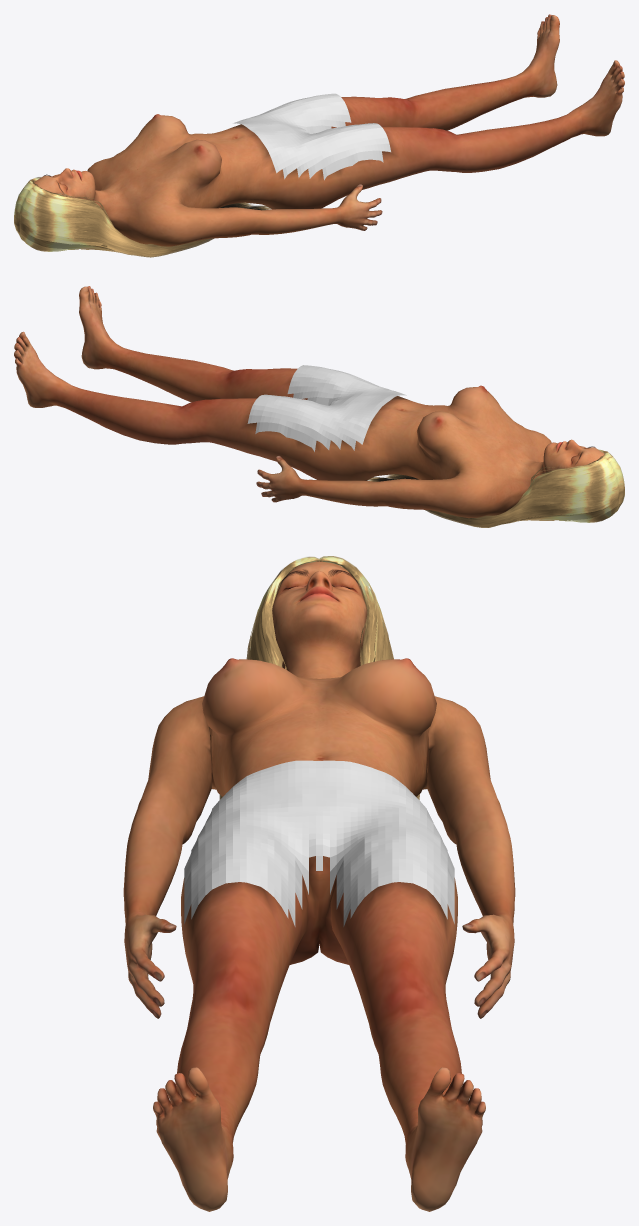
Rendered from kundin_lie_h8.glb.
The picture shows the model from 3 angles, top to bottom: view 1: azimuth 30°, elevation 25°; view 2: azimuth 150°, elevation 25°; view 3: azimuth 270°, elevation 25°; orthographic projection. The views are drawn at different scales.
Parts seen in each view (by area): view 1: body, towel, hair; view 2: body, towel, hair; view 3: body, towel, hair.
Boxes of the visible parts, bbox=[...] form: body: bbox=[34, 14, 624, 246]; towel: bbox=[233, 93, 390, 180]; hair: bbox=[14, 177, 271, 257]; body: bbox=[14, 286, 604, 518]; towel: bbox=[247, 365, 406, 451]; hair: bbox=[367, 449, 624, 527]; body: bbox=[123, 561, 515, 1211]; towel: bbox=[184, 760, 454, 926]; hair: bbox=[219, 556, 419, 799].
Size of the model in its own units: 1.77 by 0.3136 by 0.5264.
4 materials, 4 textured.
